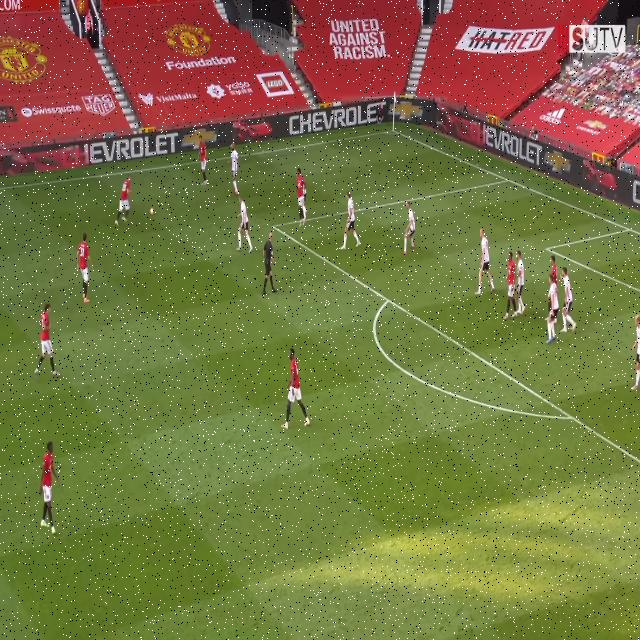Ball: (150, 206, 154, 218)
TEAM 1: (31, 302, 66, 383), (283, 344, 313, 434), (38, 438, 64, 536), (74, 224, 100, 306), (115, 171, 137, 228), (294, 160, 310, 226), (507, 243, 518, 326), (198, 133, 210, 185)
TEAM 2: (477, 221, 498, 302), (562, 260, 582, 340), (341, 187, 361, 254), (403, 197, 424, 256), (237, 194, 253, 256), (546, 274, 559, 349), (630, 307, 640, 391), (228, 141, 240, 200), (550, 249, 559, 286)
